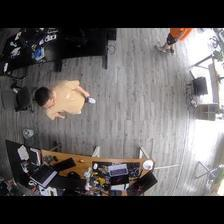normal: (35, 78, 95, 119)
